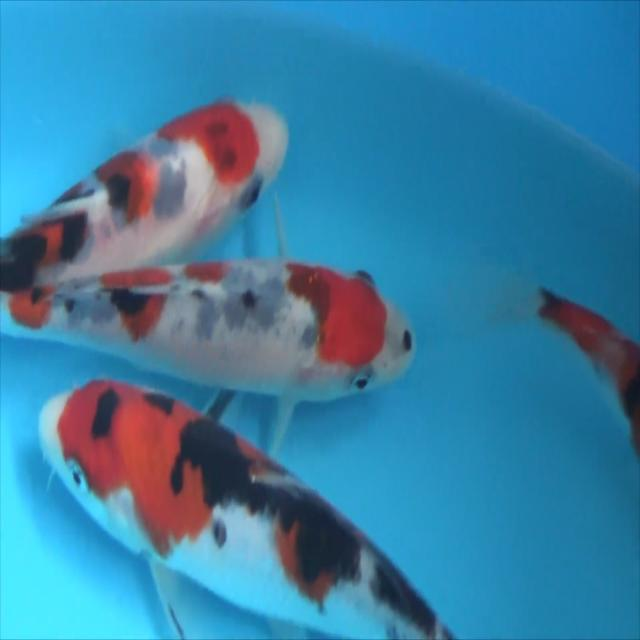Sanke: (38, 376, 458, 638), (8, 255, 416, 456), (1, 95, 290, 299), (471, 246, 639, 458)
